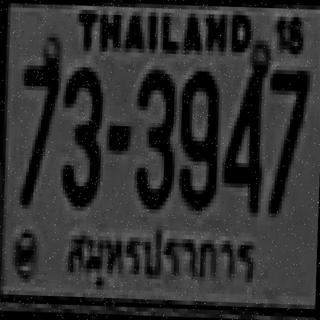N03: (133, 65, 175, 206), (59, 62, 101, 203)
N04: (222, 60, 264, 209)
N07: (17, 48, 59, 205), (265, 66, 307, 214), (267, 66, 307, 169)
N09: (175, 66, 218, 207)
P57: (57, 220, 261, 297)
